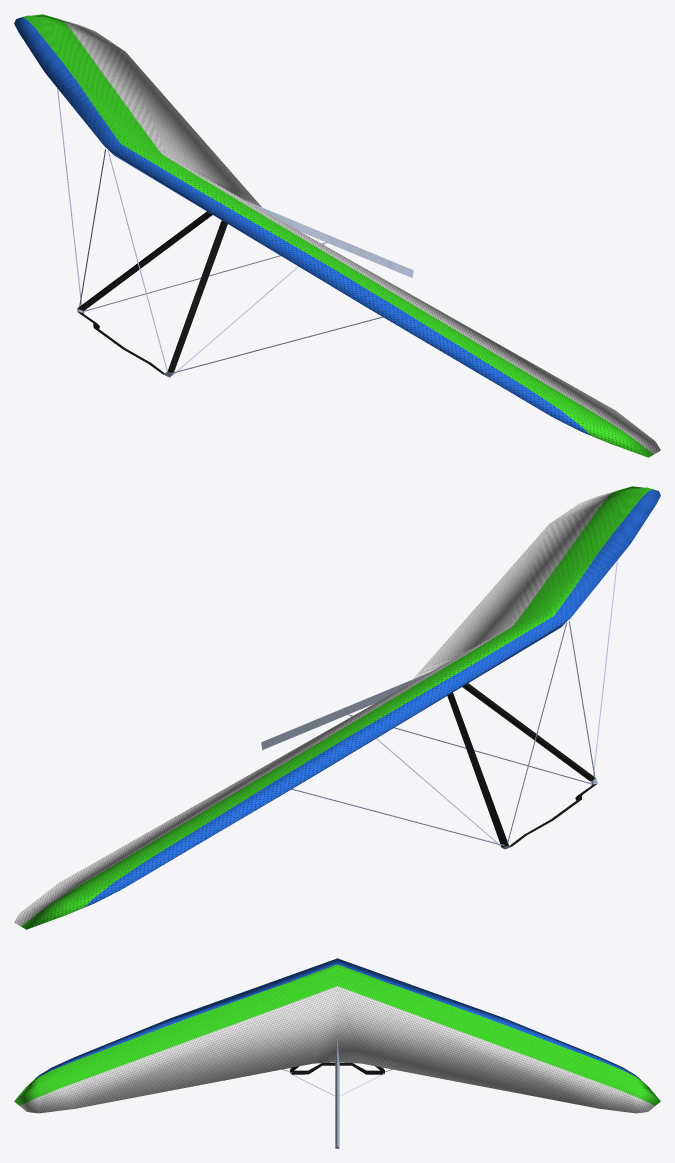
Rendered from hang-glider-green-launch-cbj_LOD02.gltf.
The picture shows the model from 3 angles, top to bottom: view 1: azimuth 30°, elevation 25°; view 2: azimuth 150°, elevation 25°; view 3: azimuth 270°, elevation 25°; orthographic projection. The views are drawn at different scales.
Parts seen in each view (by area): view 1: hang-glider03; view 2: hang-glider03; view 3: hang-glider03.
Part boxes in pixels (box(x1,y1,x2,y2)): hang-glider03: box(14, 14, 660, 457); hang-glider03: box(14, 486, 660, 929); hang-glider03: box(14, 958, 660, 1148).
Size of the model in its own units: 2.97 by 1.89 by 10.05.
